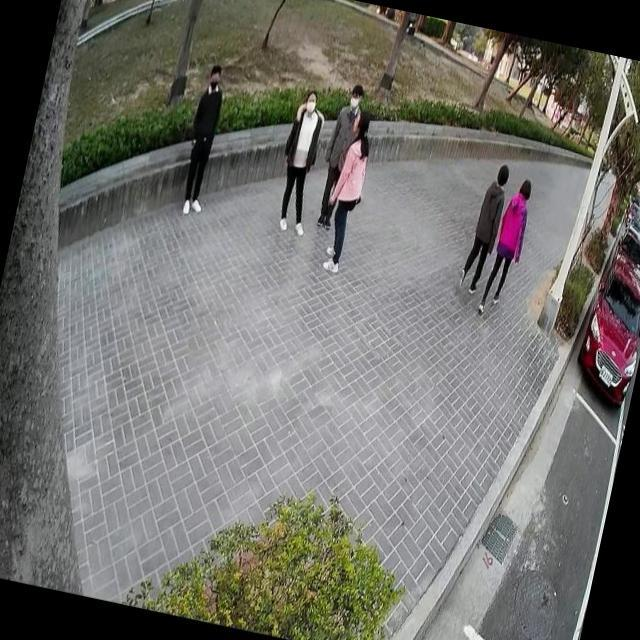person: (311, 100, 382, 280), (264, 82, 336, 239), (471, 168, 539, 324), (170, 58, 232, 219), (305, 76, 368, 234), (451, 156, 514, 304)
